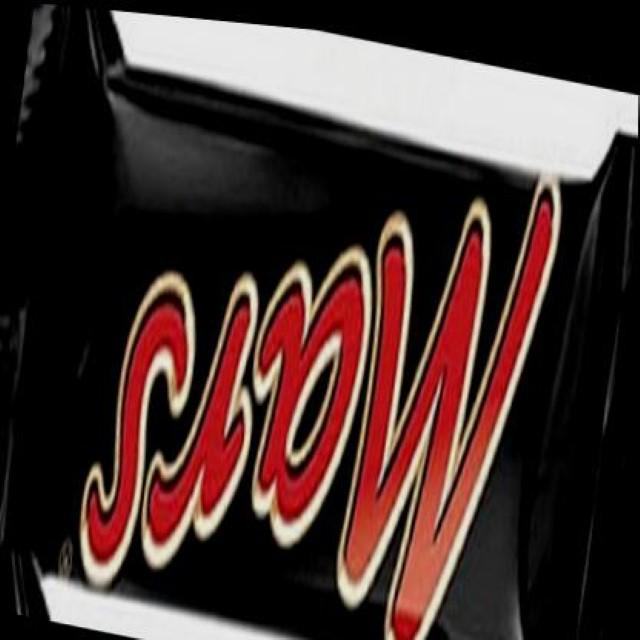mars_chocolate: (11, 43, 639, 640)
